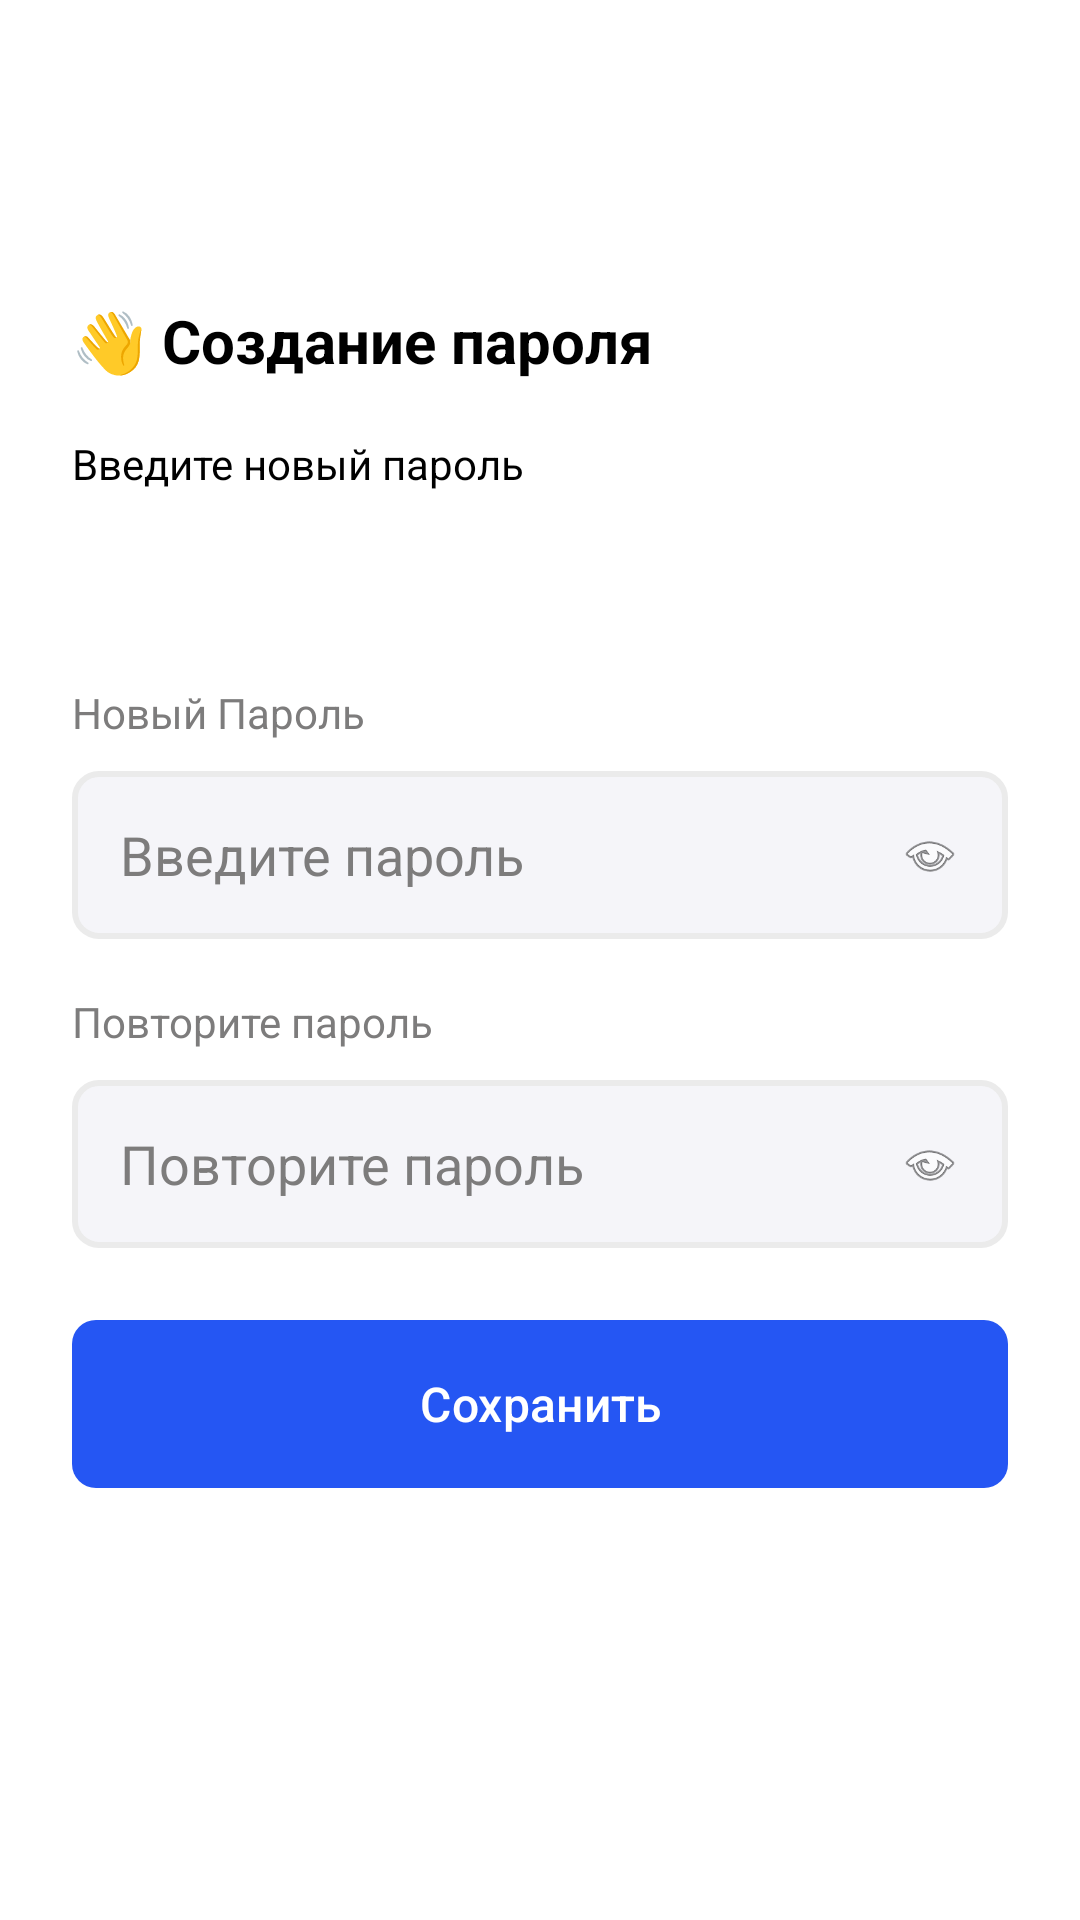

Icon bounding boxes for this 1080×1920 phone screenshot, format bbox=(x1, y1, x2, y2):
view: bbox=(906, 841, 954, 872), bbox=(906, 1150, 954, 1181)
